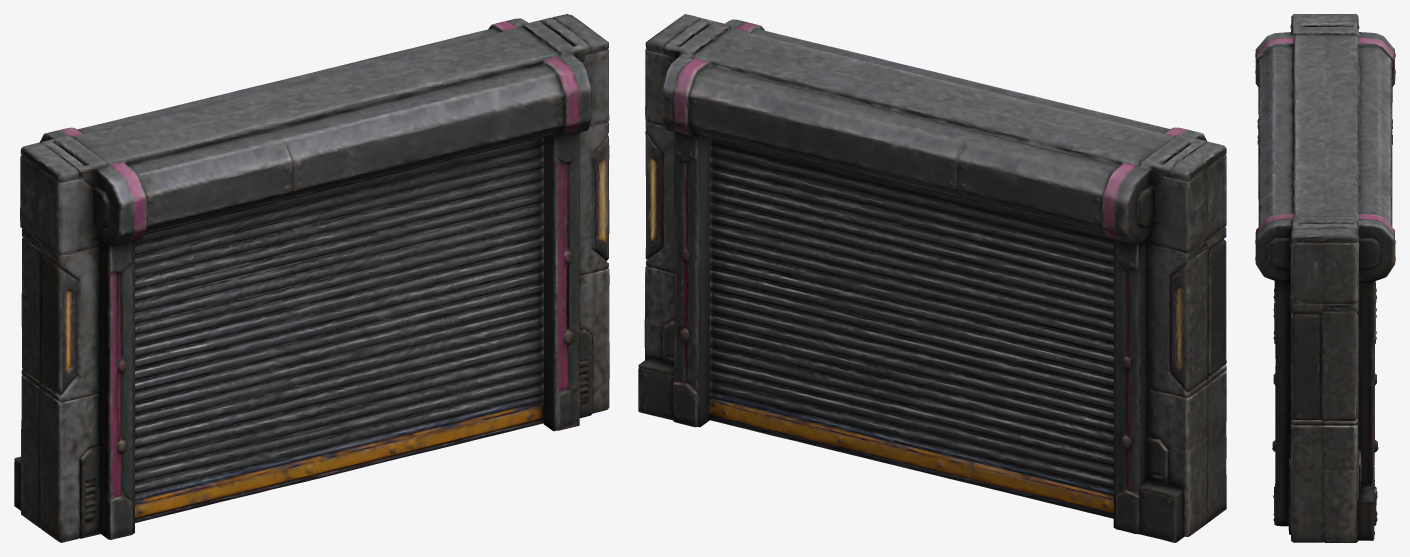
The model's file is kairox-shop-shutter.glb.
The picture shows the model from 3 angles, left to right: view 1: azimuth 30°, elevation 25°; view 2: azimuth 150°, elevation 25°; view 3: azimuth 270°, elevation 25°; orthographic projection. The views are drawn at different scales.
Visible parts, largest first — view 1: kairox-shop-shutter; view 2: kairox-shop-shutter; view 3: kairox-shop-shutter.
Part boxes in pixels (<box>): kairox-shop-shutter: <box>14,14,609,542</box>; kairox-shop-shutter: <box>638,14,1226,542</box>; kairox-shop-shutter: <box>1255,14,1395,542</box>.
Bounding box in the file's own units: 4 × 2.57 × 1.06.
1 material, 1 textured.
